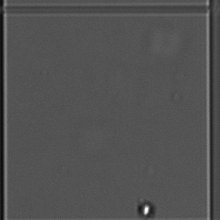Living Cell: (132, 194, 158, 220)
